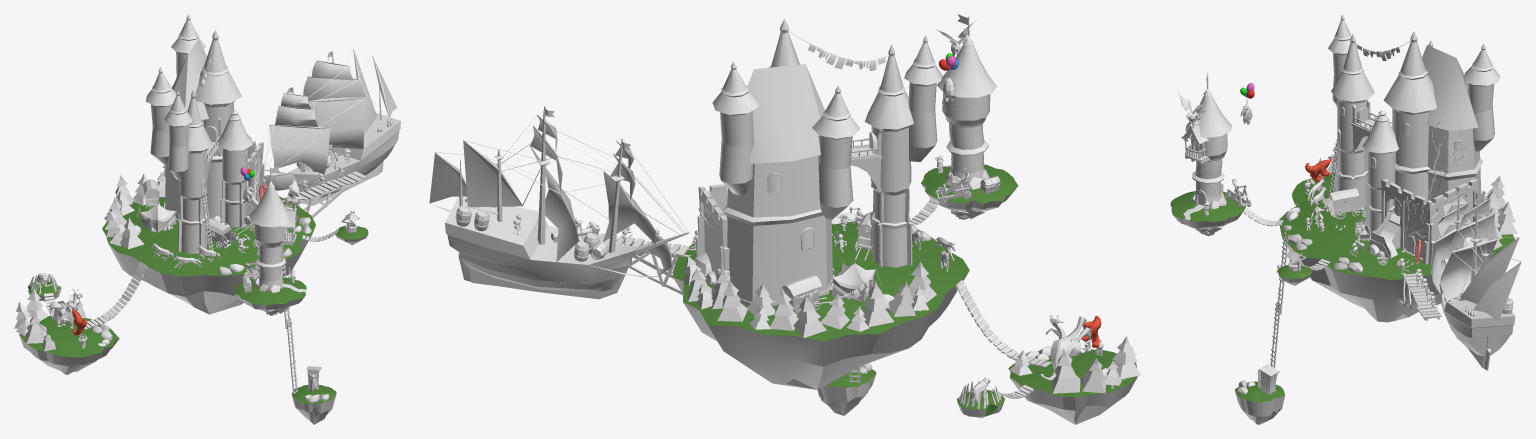
Rendered from megaScene.fbx.
The picture shows the model from 3 angles, left to right: view 1: azimuth 30°, elevation 25°; view 2: azimuth 150°, elevation 25°; view 3: azimuth 270°, elevation 25°; orthographic projection. The views are drawn at different scales.
Parts seen in each view (by area): view 1: castle, ship, Circle.023, Circle.014, Circle, Cube.013, Circle.009, Cube.009, tent_proxy, Circle.021, Cube.108, prison_proxy (+5 smaller); view 2: castle, ship, Circle.023, Circle.014, Circle, Circle.009, Cube.013, tent_proxy, Cube.108, Circle.021, Cube.009, waggon_proxy (+8 smaller); view 3: castle, ship, Circle.023, Circle, Circle.014, Cube.013, prison_proxy, Circle.021, Plane.004, Cube.027, Cube.115, Circle.001 (+4 smaller).
Part boxes in pixels (x1,y1,x2,y2): castle: [145, 14, 265, 254]; ship: [264, 48, 400, 205]; Circle.023: [19, 196, 368, 404]; Circle.014: [109, 234, 311, 314]; Circle: [249, 167, 306, 292]; Cube.013: [282, 171, 366, 217]; Circle.009: [19, 335, 118, 374]; Cube.009: [84, 262, 147, 329]; tent_proxy: [134, 202, 179, 235]; Circle.021: [292, 395, 335, 424]; Cube.108: [49, 292, 82, 329]; prison_proxy: [207, 218, 236, 249]; castle: [694, 19, 942, 306]; ship: [429, 106, 689, 299]; Circle.023: [673, 164, 1137, 415]; Circle.014: [673, 272, 968, 389]; Circle: [937, 15, 996, 179]; Circle.009: [1009, 370, 1137, 424]; Cube.013: [583, 233, 696, 294]; tent_proxy: [822, 260, 881, 301]; Cube.108: [1040, 316, 1091, 380]; Circle.021: [817, 374, 875, 415]; Cube.009: [955, 280, 1051, 367]; waggon_proxy: [782, 275, 831, 314]; castle: [1328, 14, 1499, 265]; ship: [1431, 187, 1521, 370]; Circle.023: [1170, 172, 1514, 402]; Circle: [1181, 72, 1231, 220]; Circle.014: [1283, 239, 1502, 322]; Cube.013: [1398, 272, 1441, 320]; prison_proxy: [1323, 188, 1365, 219]; Circle.021: [1236, 394, 1284, 424]; Plane.004: [1427, 111, 1471, 200]; Cube.027: [1257, 364, 1279, 394]; Cube.115: [1497, 201, 1517, 234]; Circle.001: [1173, 211, 1243, 230].
Bounding box in the file's own units: 7058 × 5286 × 4433.
